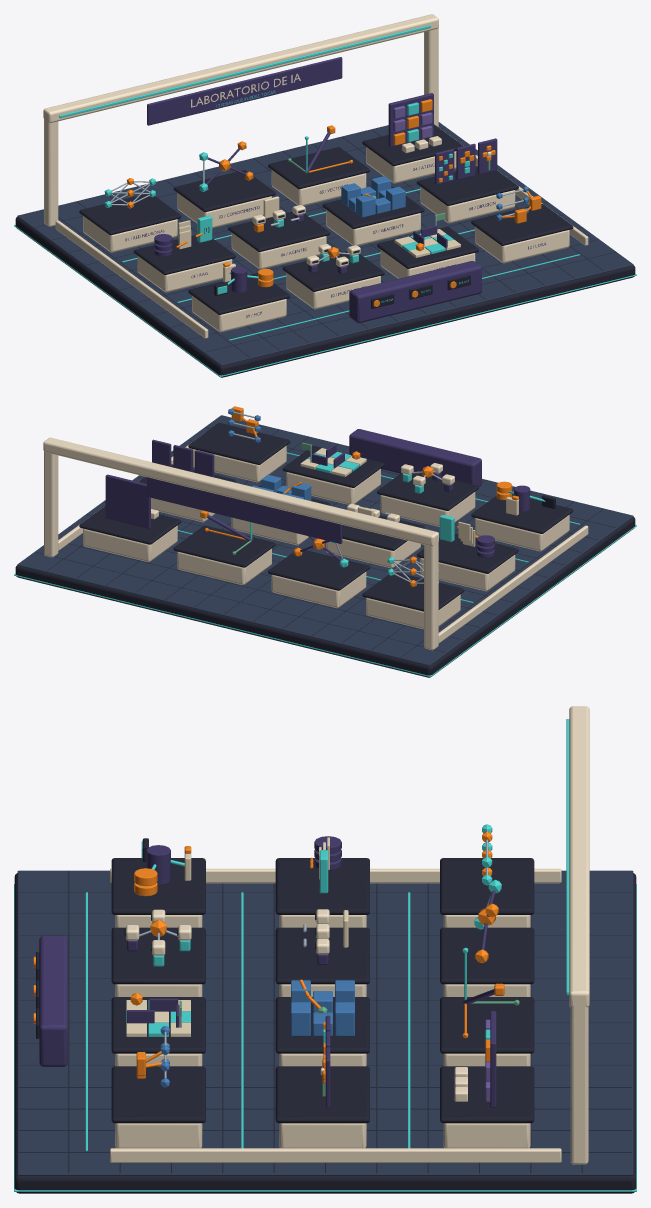
The model's file is lab.glb.
3 views of the same model, one above another, from view 1: azimuth 30°, elevation 25°; view 2: azimuth 150°, elevation 25°; view 3: azimuth 270°, elevation 25° (orthographic). The views are drawn at different scales.
Parts seen in each view (by area): view 1: Satin floor.005, Foundation.005, Lab_ArchHeader, Lab_TitlePlate, Lab_RelayConsole, Exhibit_neural_Tray, Exhibit_graph_Tray, Exhibit_vectors_Tray, Exhibit_lora_Tray, Exhibit_agents_Tray, Exhibit_rag_Tray, Exhibit_diffusion_Tray (+26 smaller); view 2: Satin floor.005, Foundation.005, Lab_ArchHeader, Lab_TitlePlate, Lab_RelayConsole, Exhibit_lora_Tray, Exhibit_graph_Tray, Exhibit_vectors_Tray, Exhibit_attention_MatrixBack, Exhibit_multiagent_Tray, Exhibit_mcp_Tray, Exhibit_neural_Tray (+25 smaller); view 3: Satin floor.005, Foundation.005, Lab_LowBoundary.001, Lab_ArchHeader, Exhibit_lora_Tray, Exhibit_diffusion_Tray, Exhibit_graph_Tray, Exhibit_neural_Tray, Exhibit_rag_Tray, Exhibit_agents_Tray, Exhibit_vectors_Tray, Exhibit_attention_Tray (+27 smaller).
Boxes of the visible parts, bbox=[...] form: Satin floor.005: bbox=[17, 122, 633, 365]; Foundation.005: bbox=[15, 217, 635, 377]; Lab_ArchHeader: bbox=[43, 14, 438, 122]; Lab_TitlePlate: bbox=[147, 57, 342, 125]; Lab_RelayConsole: bbox=[349, 261, 481, 323]; Exhibit_neural_Tray: bbox=[79, 194, 181, 235]; Exhibit_graph_Tray: bbox=[173, 170, 275, 212]; Exhibit_vectors_Tray: bbox=[268, 147, 369, 189]; Exhibit_lora_Tray: bbox=[471, 204, 573, 245]; Exhibit_agents_Tray: bbox=[228, 211, 330, 251]; Exhibit_rag_Tray: bbox=[133, 235, 235, 275]; Exhibit_diffusion_Tray: bbox=[416, 166, 518, 205]; Satin floor.005: bbox=[17, 415, 633, 665]; Foundation.005: bbox=[15, 517, 635, 677]; Lab_ArchHeader: bbox=[43, 437, 438, 546]; Lab_TitlePlate: bbox=[147, 477, 342, 543]; Lab_RelayConsole: bbox=[349, 429, 481, 486]; Exhibit_lora_Tray: bbox=[188, 423, 290, 464]; Exhibit_graph_Tray: bbox=[268, 549, 369, 590]; Exhibit_vectors_Tray: bbox=[173, 525, 275, 567]; Exhibit_attention_MatrixBack: bbox=[105, 474, 150, 528]; Exhibit_multiagent_Tray: bbox=[377, 470, 478, 510]; Exhibit_mcp_Tray: bbox=[471, 494, 573, 533]; Exhibit_neural_Tray: bbox=[362, 572, 464, 611]; Satin floor.005: bbox=[17, 870, 633, 1175]; Foundation.005: bbox=[14, 873, 636, 1193]; Lab_LowBoundary.001: bbox=[110, 1148, 561, 1162]; Lab_ArchHeader: bbox=[569, 706, 589, 1007]; Exhibit_lora_Tray: bbox=[111, 1066, 205, 1123]; Exhibit_diffusion_Tray: bbox=[275, 1066, 369, 1123]; Exhibit_graph_Tray: bbox=[440, 927, 534, 984]; Exhibit_neural_Tray: bbox=[440, 858, 534, 914]; Exhibit_rag_Tray: bbox=[275, 858, 369, 914]; Exhibit_agents_Tray: bbox=[275, 927, 369, 984]; Exhibit_vectors_Tray: bbox=[440, 997, 534, 1053]; Exhibit_attention_Tray: bbox=[440, 1066, 534, 1123].
Size of the model in its own units: 14.14 by 4.16 by 12.14.
